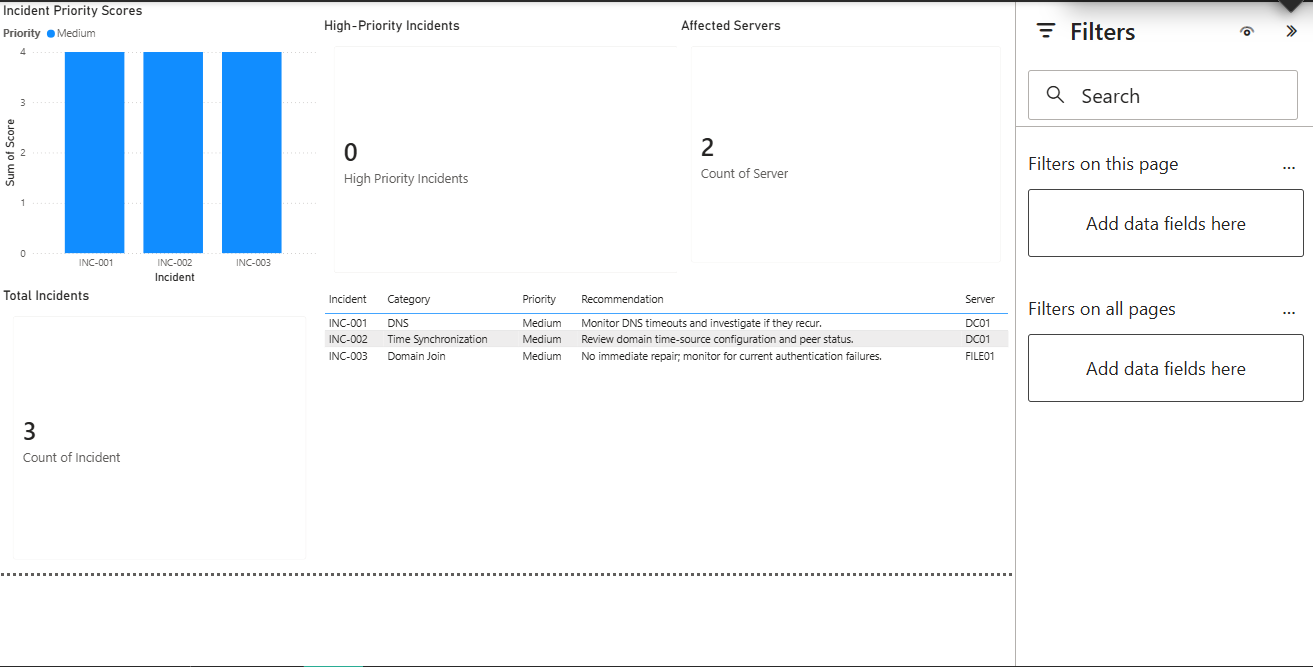

What the dashboard file says about the page in this screenshot:
{"tool":"powerbi","page":{"name":"Page 1","canvas":[1280,720],"ordinal":0},"visuals":[{"type":"clusteredColumnChart","title":"Incident Priority Scores","fields":{"Category":["InfraOps-AI-Analysis.Incident"],"Y":["Sum(InfraOps-AI-Analysis.Score)"],"Series":["InfraOps-AI-Analysis.Priority"]},"box":[0,0,404.4,359.1],"z":0},{"type":"cardVisual","title":"Total Incidents","fields":{"Data":["Count(InfraOps-AI-Analysis.Incident)"]},"box":[0,359.1,404.4,360.9],"z":1000},{"type":"cardVisual","title":"High-Priority Incidents","fields":{"Data":["InfraOps-AI-Analysis.High Priority Incidents"]},"box":[404.4,18.9,468.7,340.2],"z":2000},{"type":"cardVisual","title":"Affected Servers","fields":{"Data":["Count(InfraOps-AI-Analysis.Server)"]},"box":[854.2,18.9,425.2,326.9],"z":3000},{"type":"tableEx","fields":{"Values":["InfraOps-AI-Analysis.Incident","InfraOps-AI-Analysis.Category","InfraOps-AI-Analysis.Priority","InfraOps-AI-Analysis.Recommendation","InfraOps-AI-Analysis.Server"]},"box":[404.4,359.1,875,136.1],"z":4000}]}

Visuals, with their boxes on the page's 1280x720 design canvas (x1, y1, x2, y2). These are canvas units, not pixel positions in the 1313x667 screenshot, which may show the page scaled, cropped or inside an application window:
"Incident Priority Scores" clusteredColumnChart: x1=0 y1=0 x2=404 y2=359
"Total Incidents" cardVisual: x1=0 y1=359 x2=404 y2=720
"High-Priority Incidents" cardVisual: x1=404 y1=19 x2=873 y2=359
"Affected Servers" cardVisual: x1=854 y1=19 x2=1279 y2=346
tableEx - InfraOps-AI-Analysis.Incident x InfraOps-AI-Analysis.Category: x1=404 y1=359 x2=1279 y2=495
